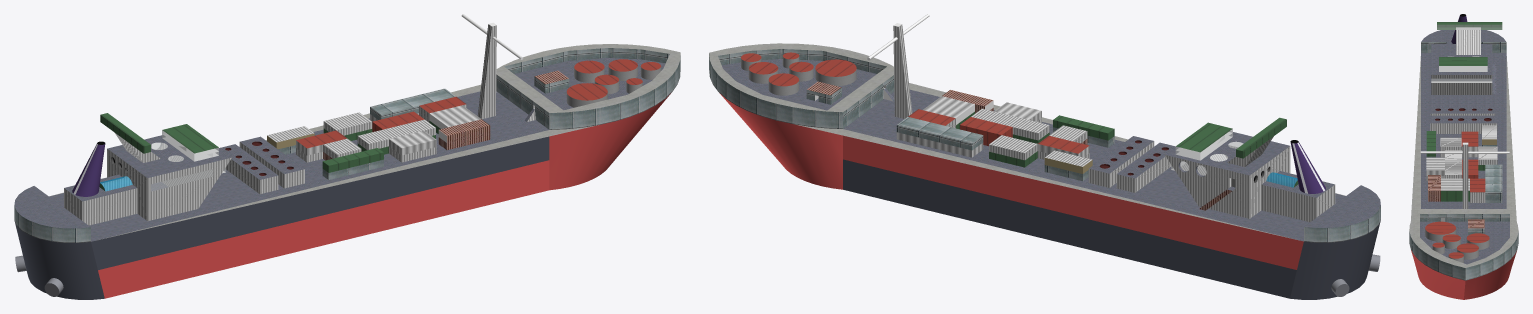
Rendered from tanker.FBX.
3 renders of one model, left to right at view 1: azimuth 30°, elevation 25°; view 2: azimuth 150°, elevation 25°; view 3: azimuth 270°, elevation 25°, orthographic. The views are drawn at different scales.
Parts seen in each view (by area): view 1: tanker; view 2: tanker; view 3: tanker.
Part boxes in pixels (bbox=[...]): tanker: bbox=[14, 14, 680, 299]; tanker: bbox=[709, 14, 1380, 299]; tanker: bbox=[1409, 14, 1518, 299].
Bounding box in the file's own units: 761 × 145 × 166.
Materials: 26 (13 with a texture image).
